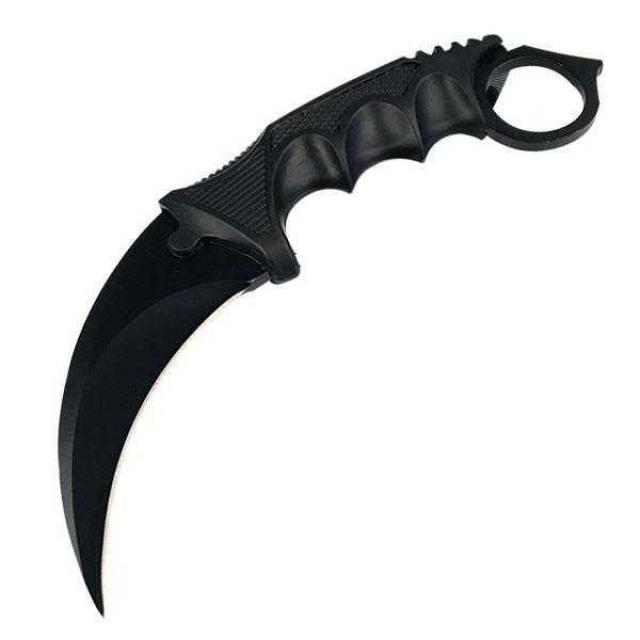Knife: (56, 25, 604, 640)
